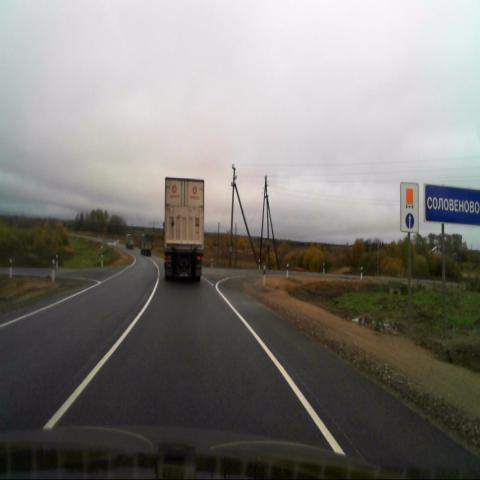4_8_2: (400, 183, 418, 234)
